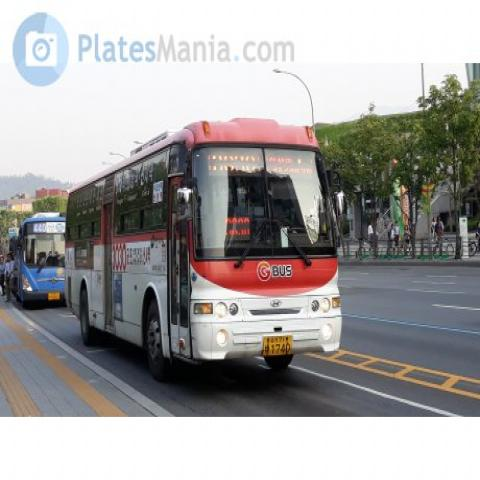LP: (260, 330, 299, 364)
